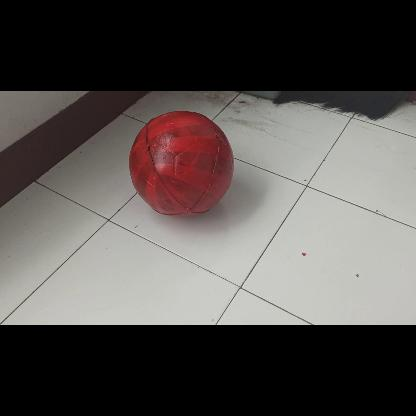red_ball: (127, 110, 233, 218)
